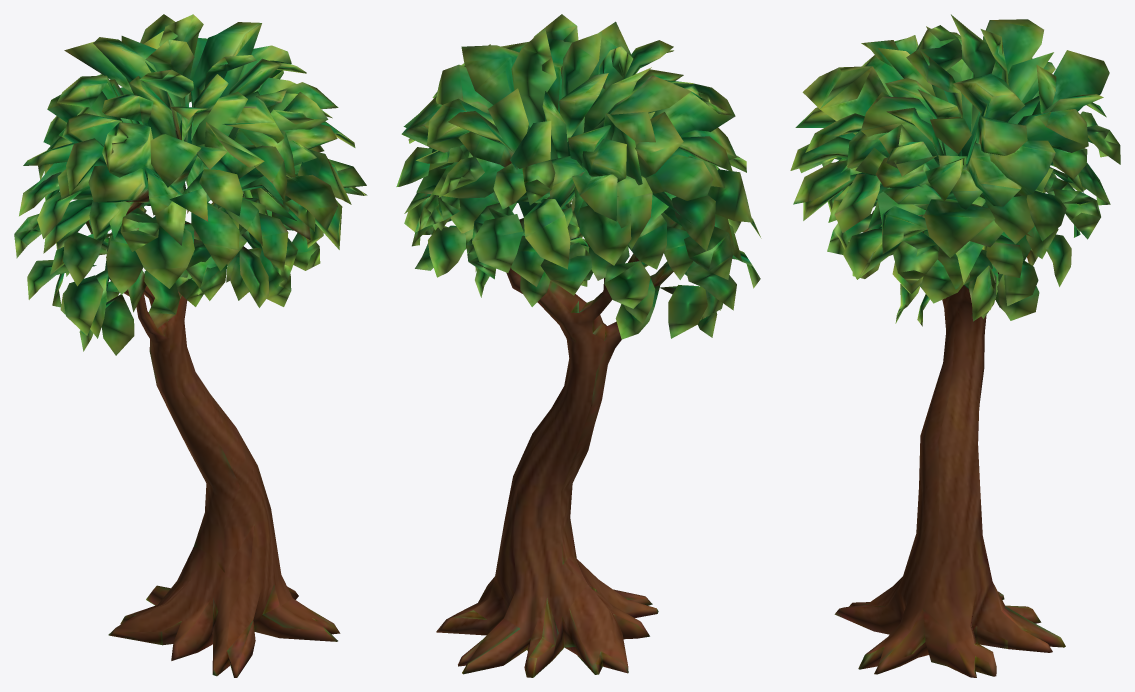
The model's file is tree_broad_hi.glb.
The picture shows the model from 3 angles, left to right: view 1: azimuth 30°, elevation 25°; view 2: azimuth 150°, elevation 25°; view 3: azimuth 270°, elevation 25°; orthographic projection. The views are drawn at different scales.
Size of the model in its own units: 0.5352 by 0.9531 by 0.4751.
1 material, 1 textured.
